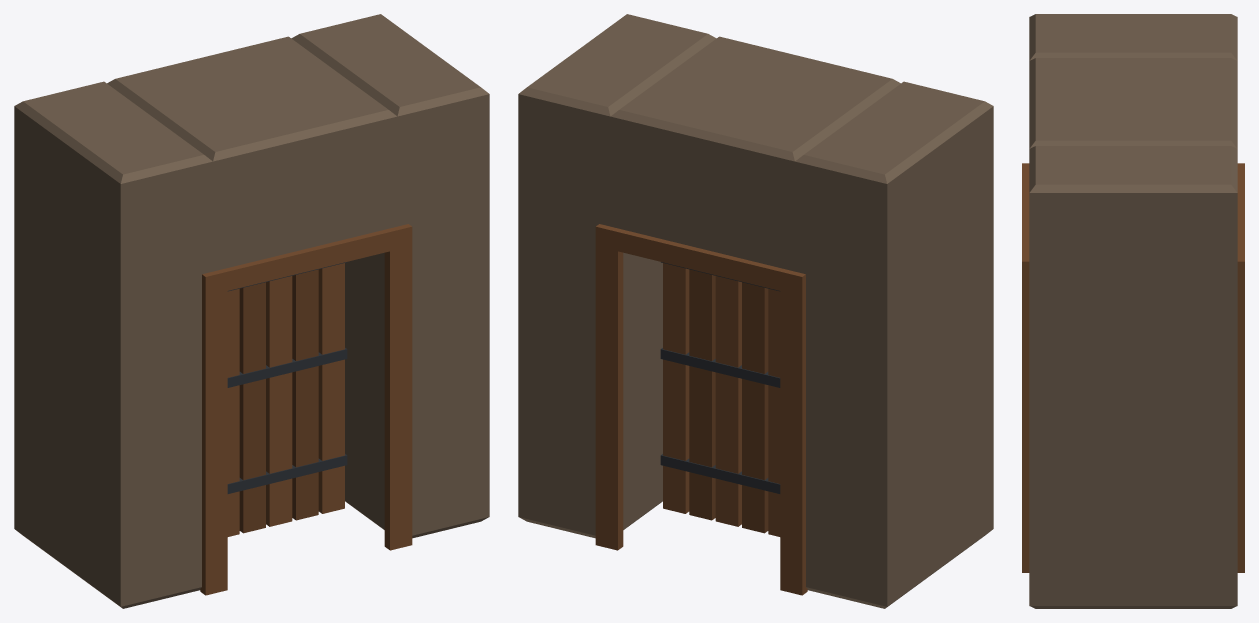
File: door.fbx
3 views of the same model, side by side, from view 1: azimuth 30°, elevation 25°; view 2: azimuth 150°, elevation 25°; view 3: azimuth 270°, elevation 25° (orthographic). The views are drawn at different scales.
Parts seen in each view (by area): view 1: door, Door; view 2: door, Door; view 3: door.
Part boxes in pixels (left/top/right/bottom): door: left=14, top=14, right=489, bottom=608; Door: left=227, top=262, right=347, bottom=536; door: left=518, top=14, right=993, bottom=608; Door: left=660, top=262, right=780, bottom=536; door: left=1022, top=14, right=1244, bottom=608.
Bounding box in the file's own units: 4 × 4.5 × 2.14.
